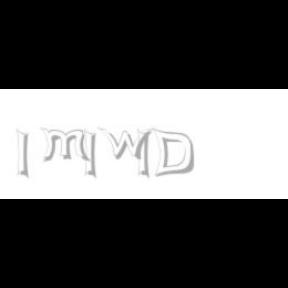D: (152, 128, 194, 178)
I: (16, 128, 30, 180), (84, 128, 97, 180), (138, 128, 150, 180)
m: (39, 128, 91, 162)
w: (97, 128, 156, 160)
